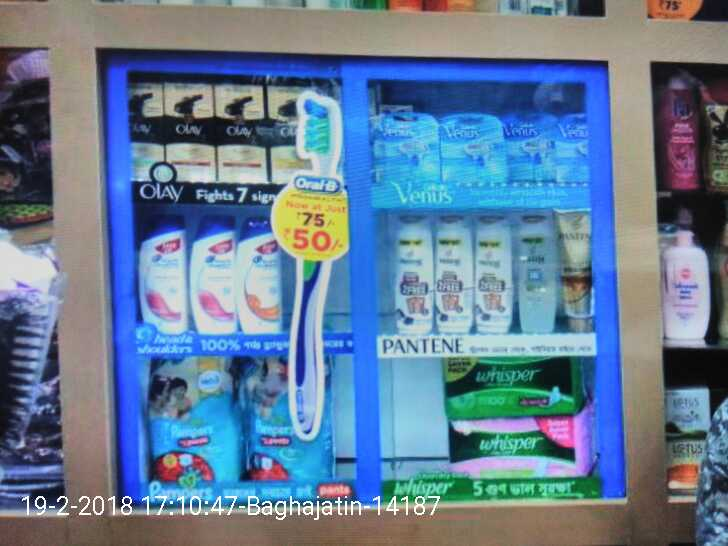venus: (371, 112, 444, 181), (444, 111, 503, 181), (503, 111, 559, 182), (559, 113, 593, 182)
